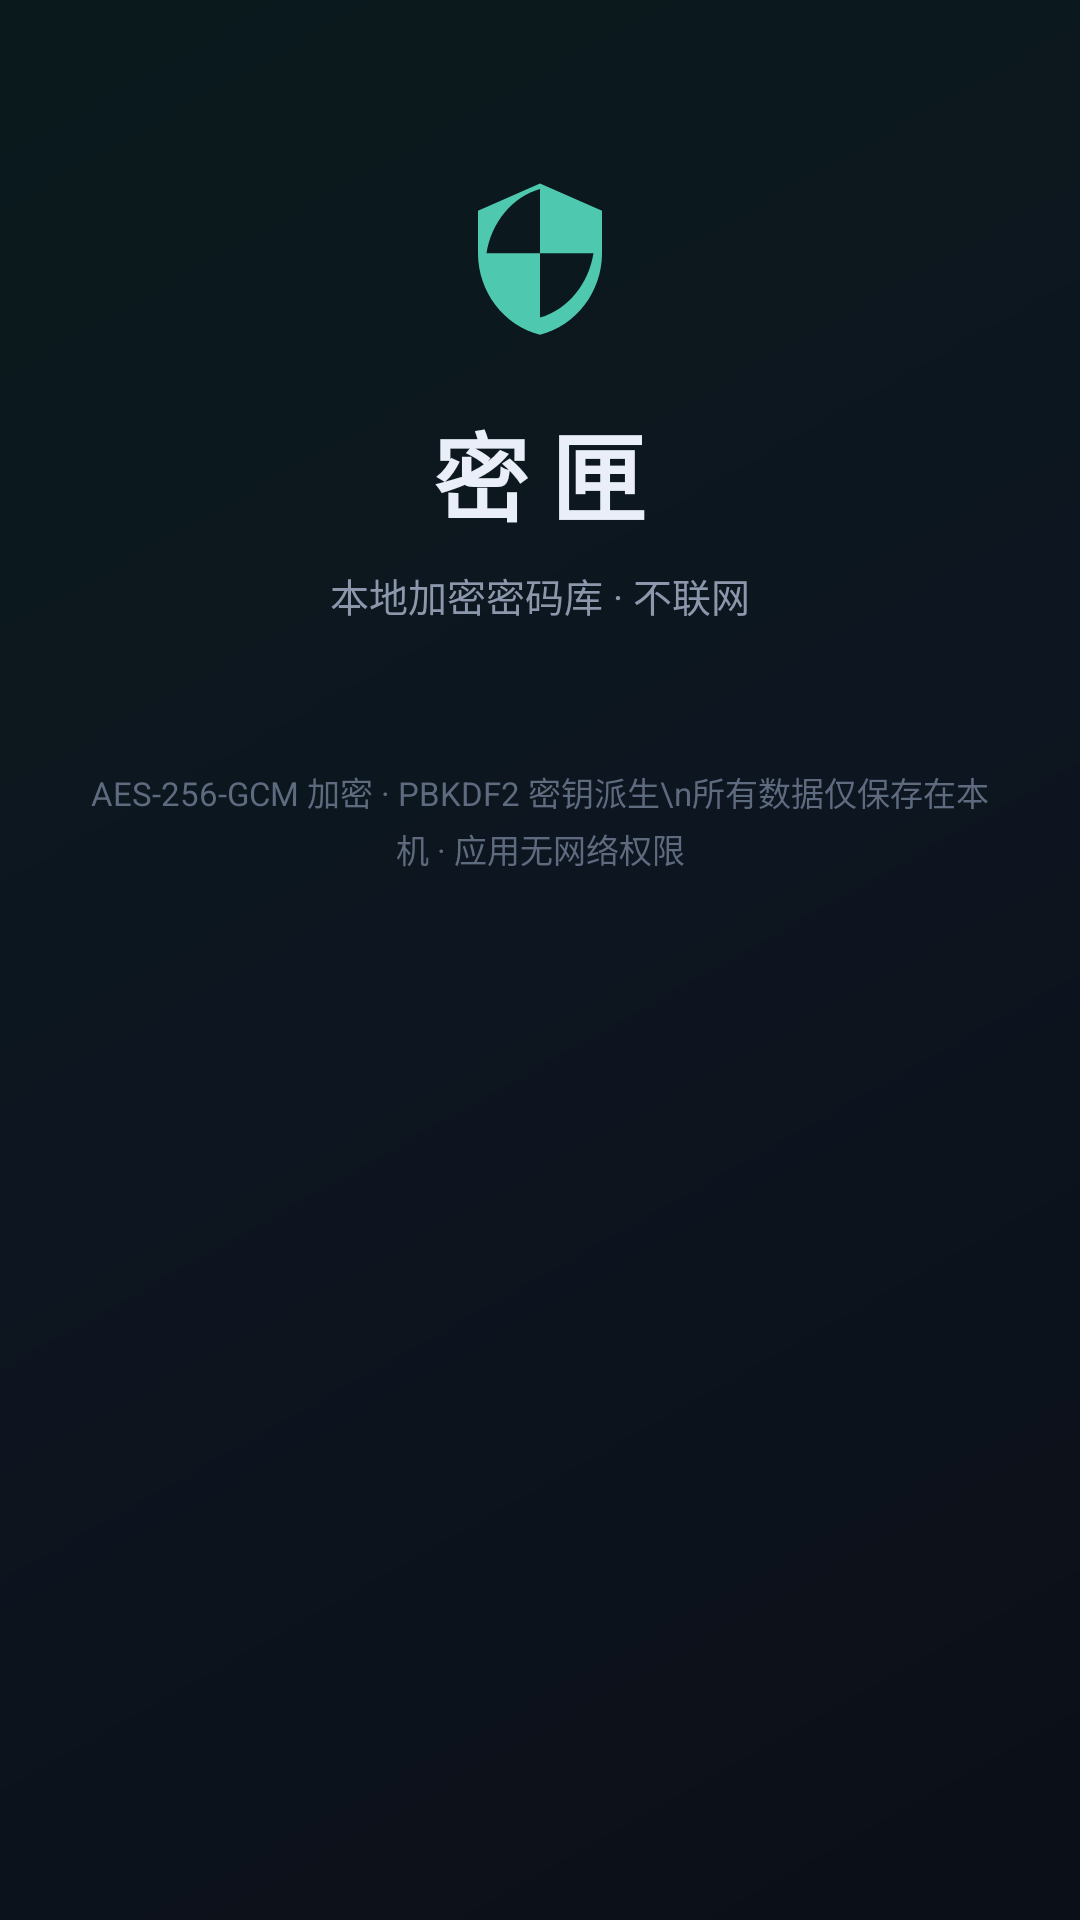

Named icons in this screenshot (1080×1920) and their bounding boxes, (x1, y1, x2, y2):
shield: (478, 183, 602, 335)
